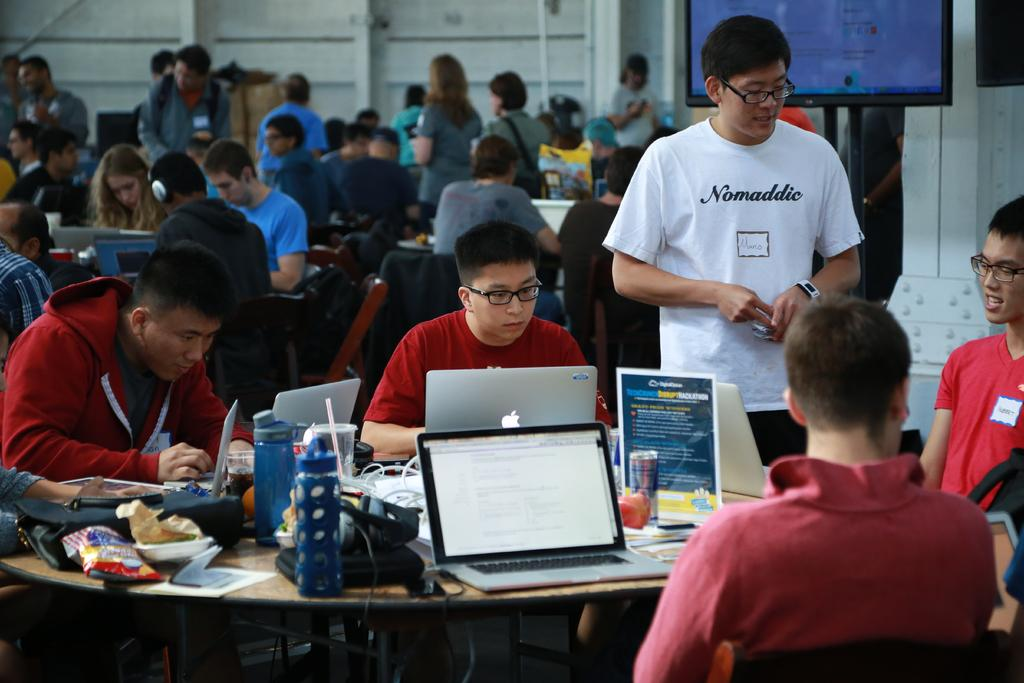Laptop: (413, 422, 669, 598), (163, 377, 362, 493), (424, 367, 597, 433), (714, 381, 772, 500), (93, 233, 155, 286), (52, 226, 118, 265)
